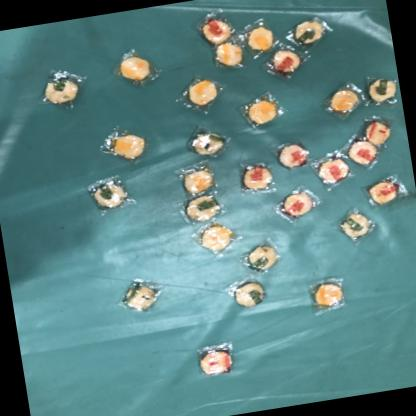green_setoshio: (82, 171, 138, 218), (220, 271, 272, 312), (41, 68, 87, 112), (121, 274, 166, 316), (285, 13, 336, 50), (177, 191, 225, 228), (184, 125, 232, 162), (242, 238, 288, 274), (336, 206, 379, 242), (360, 72, 402, 108)
red_setoshio: (263, 43, 316, 82), (358, 171, 408, 209), (193, 341, 240, 381), (236, 156, 282, 196), (276, 184, 323, 222), (194, 5, 238, 45), (360, 112, 402, 150), (312, 152, 354, 184), (342, 136, 380, 168), (276, 137, 312, 169)
yellow_setoshio: (112, 42, 162, 90), (101, 122, 156, 164), (302, 271, 350, 316), (191, 219, 242, 259), (177, 70, 225, 112), (176, 160, 222, 198), (240, 90, 285, 128), (326, 81, 368, 119), (244, 18, 280, 56), (206, 38, 246, 72)
